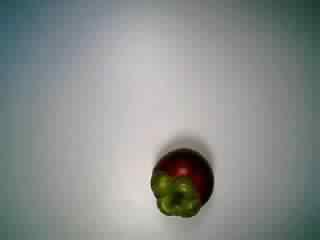mangosteen: (140, 144, 218, 220)
